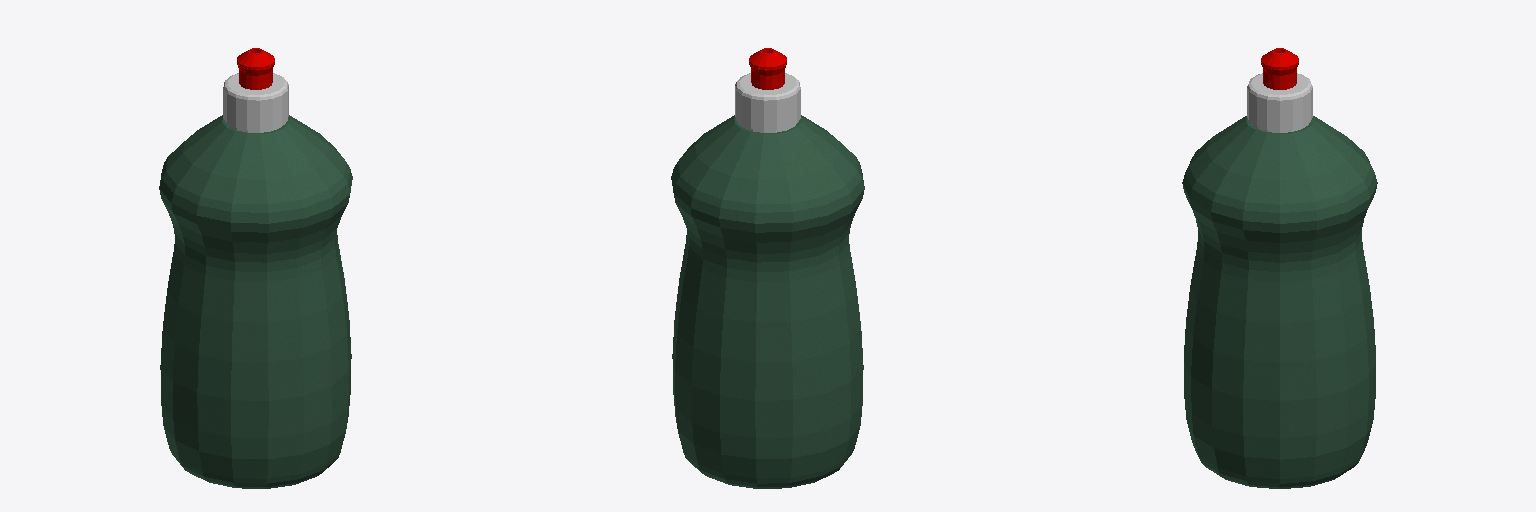
3 renders of one model, left to right at view 1: azimuth 30°, elevation 25°; view 2: azimuth 150°, elevation 25°; view 3: azimuth 270°, elevation 25°, orthographic.
Parts seen in each view (by area): view 1: detergent; view 2: detergent; view 3: detergent.
Part boxes in pixels (x1,y1,x2,y2): detergent: (159, 48, 352, 488); detergent: (671, 48, 864, 488); detergent: (1182, 48, 1377, 488).
Bounding box in the file's own units: 0.0683 × 0.1579 × 0.0683.
3 materials, 2 textured.